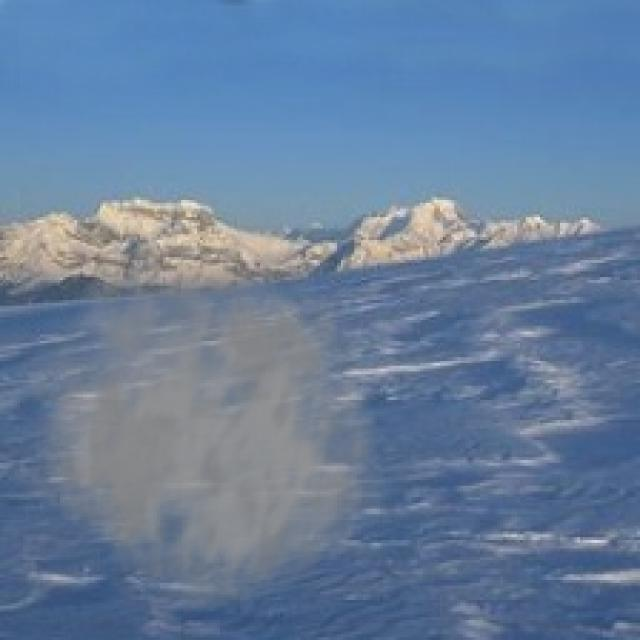smoke: (9, 223, 392, 614)
